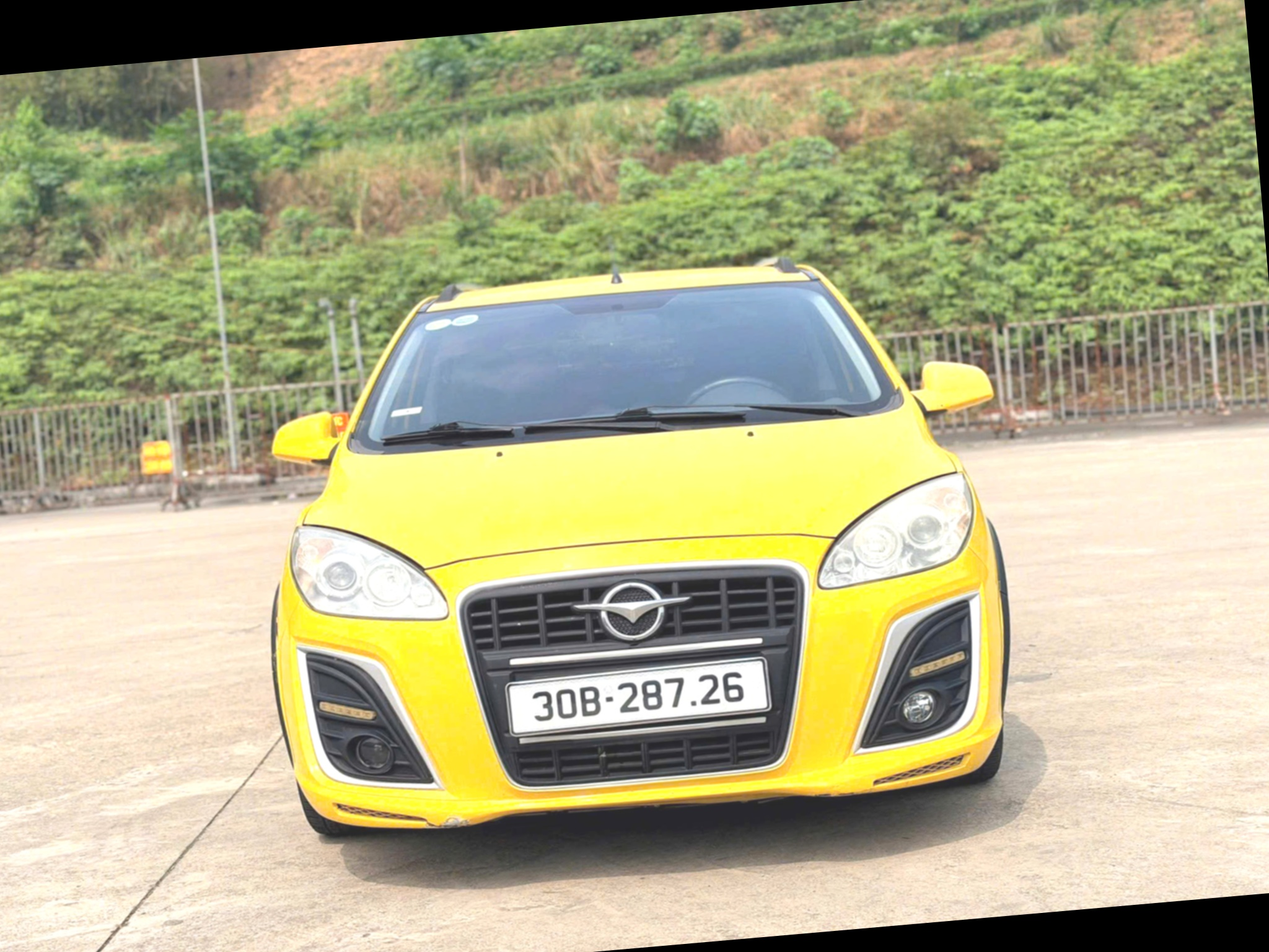Bien-so: (515, 656, 768, 743)
